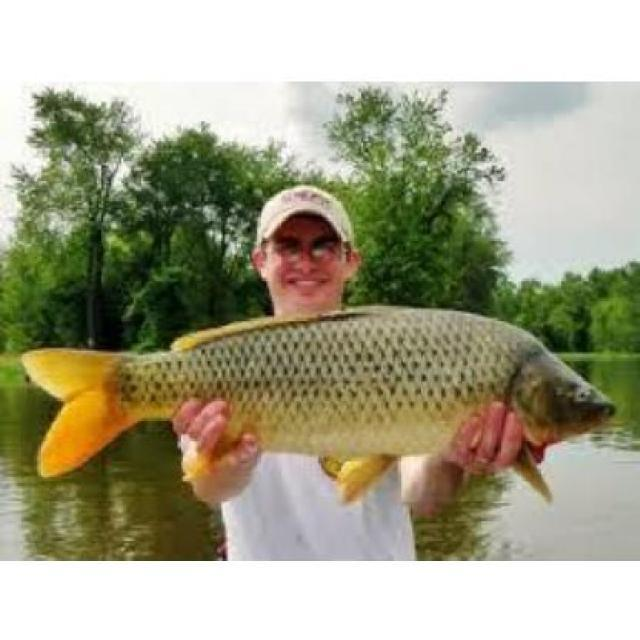ikan-mas: (22, 300, 624, 482)
